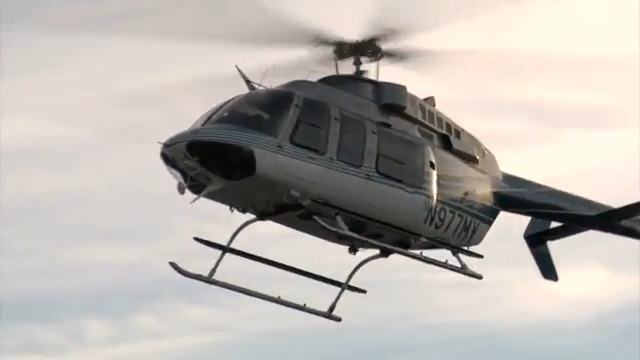helicopter: (145, 2, 640, 325)
